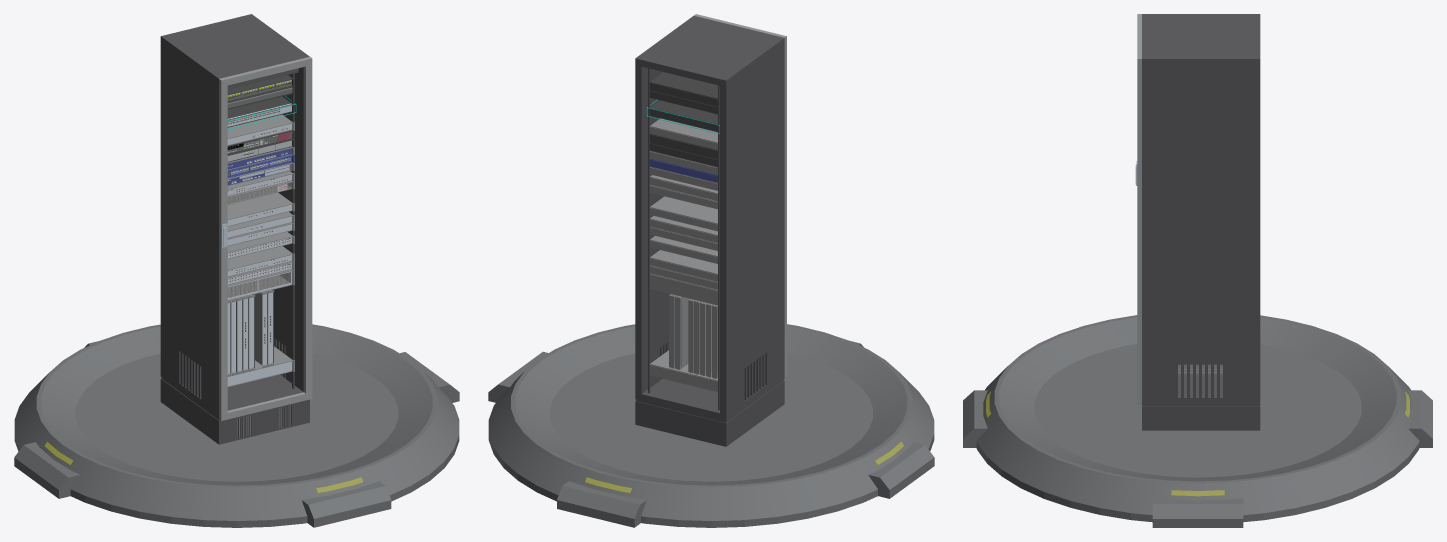
The picture shows the model from 3 angles, left to right: view 1: azimuth 30°, elevation 25°; view 2: azimuth 150°, elevation 25°; view 3: azimuth 270°, elevation 25°; orthographic projection.
Visible parts, largest first — view 1: Wyjf_Jg_Steel_Blue_003, JF_dgGuiZi_Gray_003, JG_C_ChouTi_White_001, JF_dgMenKuang_003, JG_C_White_001, JG_C_Gray_001, JG_C_ChouTi_Black_001, JG_C_Steel_Black_001, JG_C_KongDong_001, JG_C_03_ChouTi_Black_001, JG_C_Steel_Blue_001; view 2: Wyjf_Jg_Steel_Blue_003, JF_dgGuiZi_Gray_003, JG_C_ChouTi_White_001, JG_C_ChouTi_Black_001, JF_dgMenKuang_003, JG_C_03_ChouTi_Black_001, JG_C_ChouTi_Blue_001; view 3: Wyjf_Jg_Steel_Blue_003, JF_dgGuiZi_Gray_003, JF_dgMenKuang_003.
Boxes of the visible parts, bbox=[...] form: Wyjf_Jg_Steel_Blue_003: bbox=[14, 324, 459, 527]; JF_dgGuiZi_Gray_003: bbox=[160, 14, 309, 444]; JG_C_ChouTi_White_001: bbox=[227, 114, 294, 387]; JF_dgMenKuang_003: bbox=[219, 57, 312, 420]; JG_C_White_001: bbox=[227, 80, 292, 386]; JG_C_Gray_001: bbox=[227, 127, 290, 349]; JG_C_ChouTi_Black_001: bbox=[227, 75, 294, 162]; JG_C_Steel_Black_001: bbox=[227, 80, 292, 175]; JG_C_KongDong_001: bbox=[227, 182, 292, 297]; JG_C_03_ChouTi_Black_001: bbox=[227, 96, 294, 127]; JG_C_Steel_Blue_001: bbox=[227, 148, 292, 185]; Wyjf_Jg_Steel_Blue_003: bbox=[488, 324, 934, 527]; JF_dgGuiZi_Gray_003: bbox=[635, 15, 784, 446]; JG_C_ChouTi_White_001: bbox=[649, 118, 717, 391]; JG_C_ChouTi_Black_001: bbox=[649, 72, 717, 166]; JF_dgMenKuang_003: bbox=[694, 14, 786, 378]; JG_C_03_ChouTi_Black_001: bbox=[649, 100, 717, 132]; JG_C_ChouTi_Blue_001: bbox=[649, 158, 717, 182]; Wyjf_Jg_Steel_Blue_003: bbox=[963, 315, 1432, 527]; JF_dgGuiZi_Gray_003: bbox=[1142, 14, 1260, 430]; JF_dgMenKuang_003: bbox=[1137, 14, 1141, 404].
Size of what is drawn, in the model's own units: 0.0614 by 0.0566 by 0.0614.
Materials: 19 (1 with a texture image).
